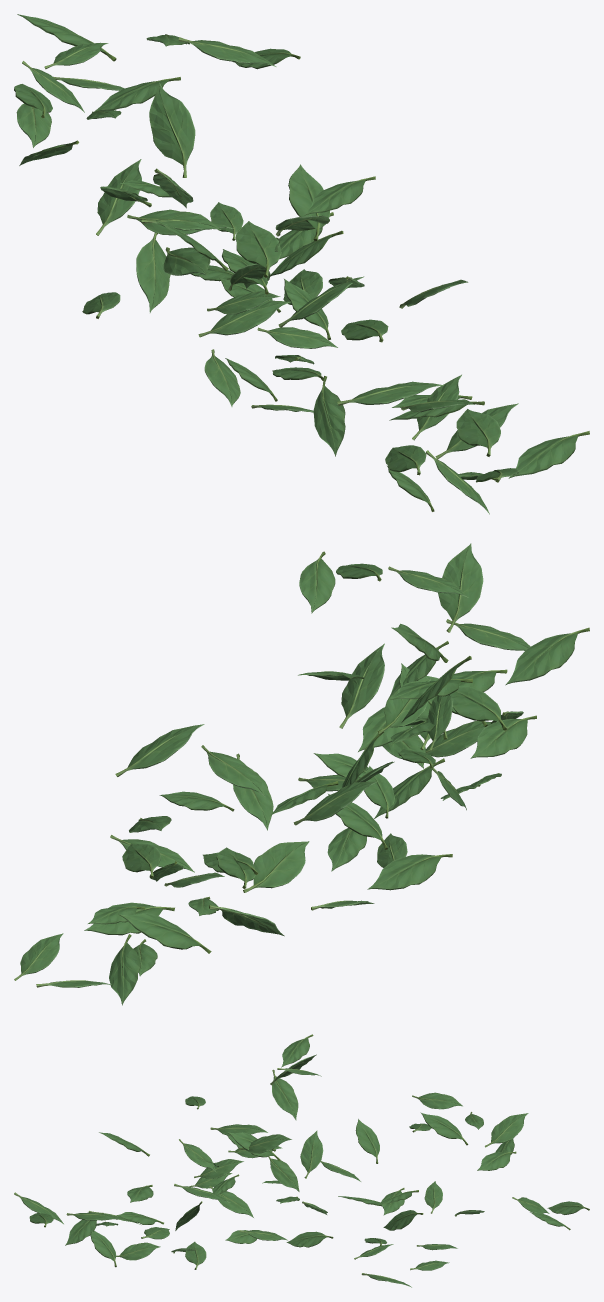
Rendered from holy_canopy3_complete.glb.
3 views of the same model, one above another, from view 1: azimuth 30°, elevation 25°; view 2: azimuth 150°, elevation 25°; view 3: azimuth 270°, elevation 25° (orthographic). The views are drawn at different scales.
Parts seen in each view (by area): view 1: holy_canopy3; view 2: holy_canopy3; view 3: holy_canopy3.
Boxes of the visible parts, <box> form: holy_canopy3: <box>14,14,589,514</box>; holy_canopy3: <box>14,543,589,1005</box>; holy_canopy3: <box>14,1034,589,1287</box>.
Bounding box in the file's own units: 8.92 × 10.53 × 27.07.
Materials: 1 (1 with a texture image).
